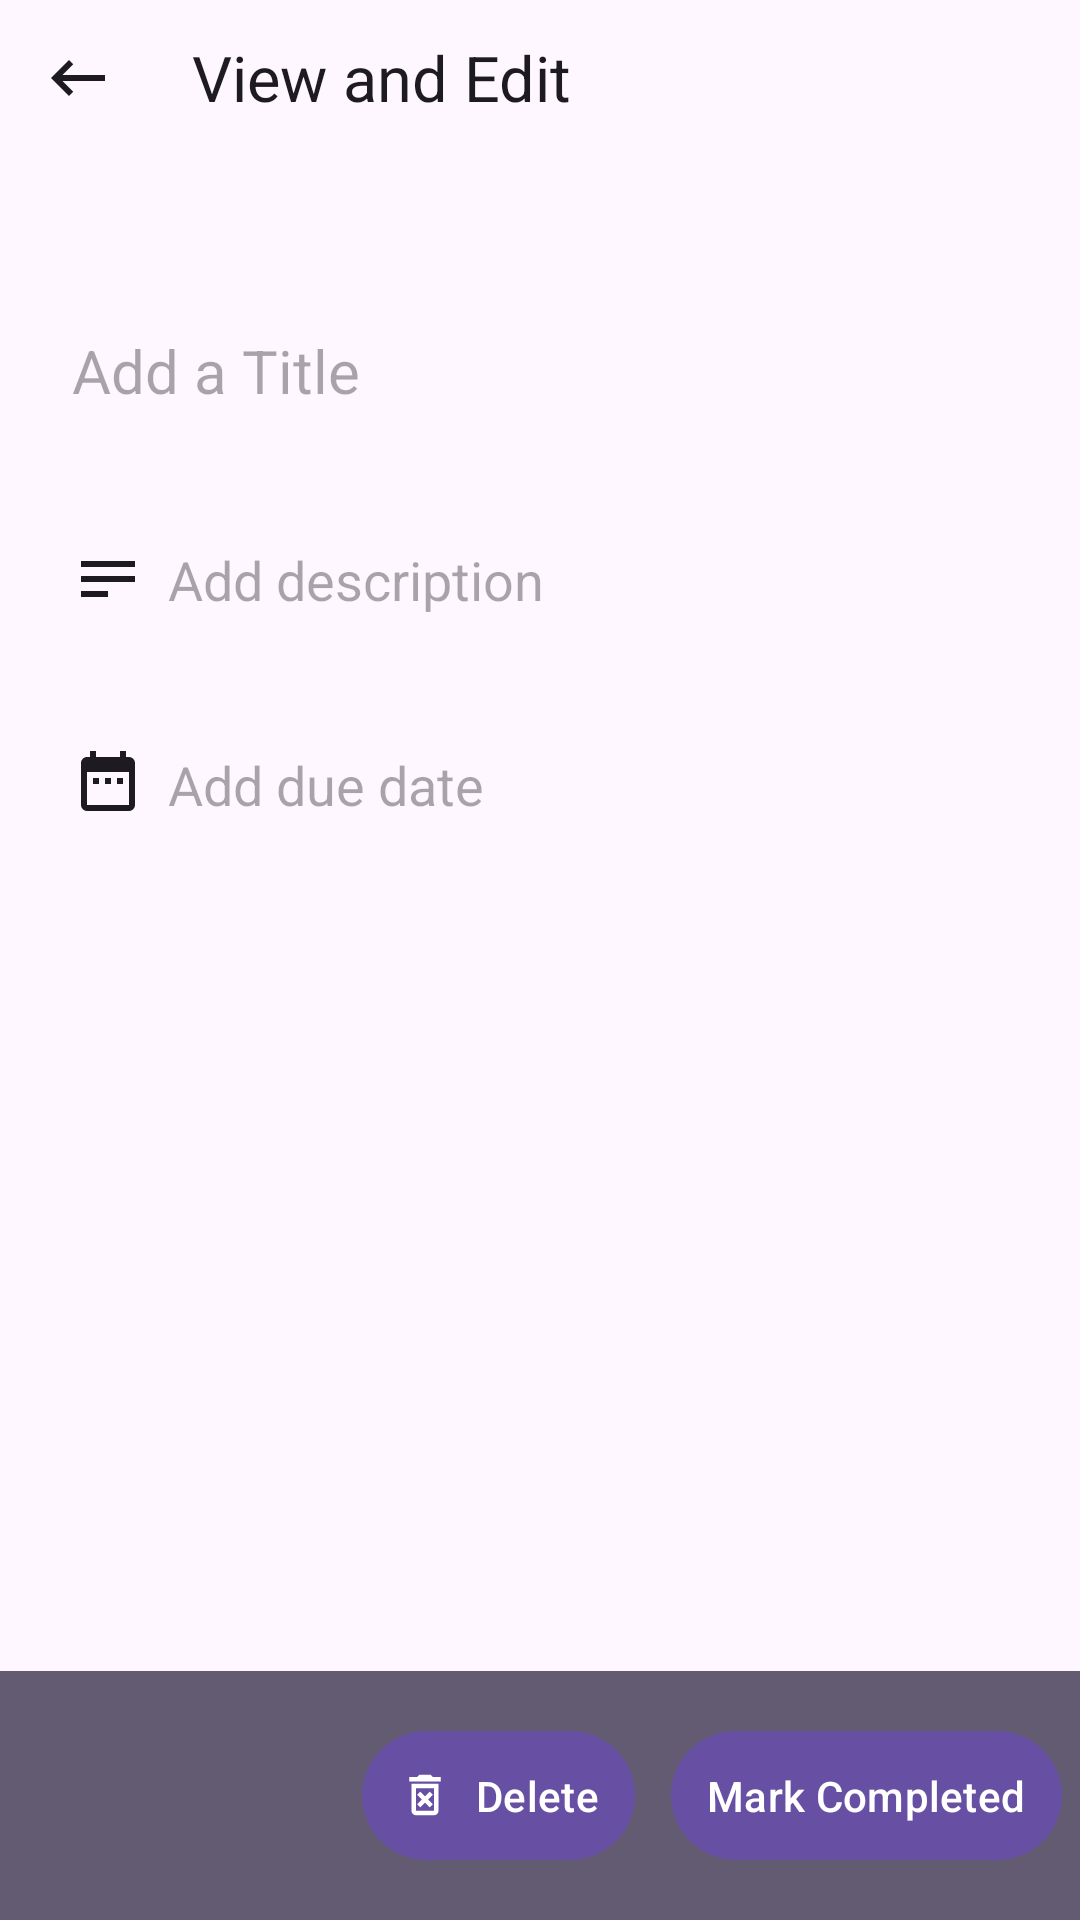

Icon bounding boxes for this 1080×1920 phone screenshot, format Rect(x1, y1, x2, y2):
keyboard backspace: Rect(51, 60, 105, 96)
